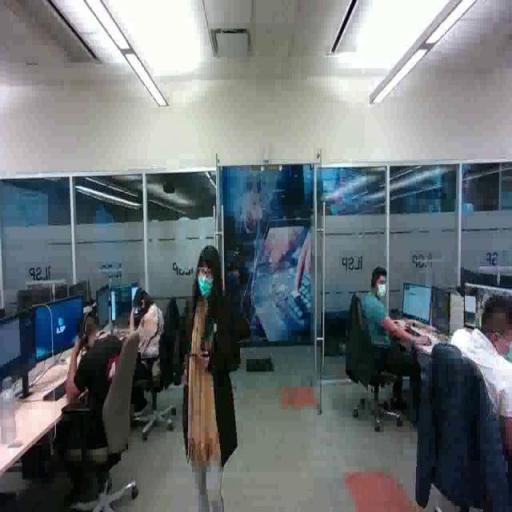person: (184, 247, 241, 512), (185, 241, 240, 512), (58, 316, 123, 497), (363, 268, 432, 412), (452, 296, 512, 457), (131, 289, 165, 416)
